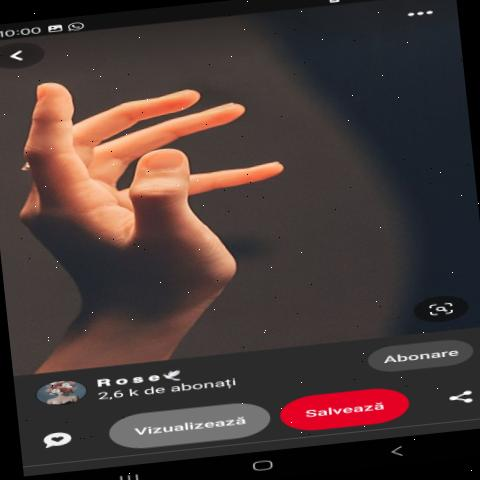hands: (0, 42, 356, 363)
